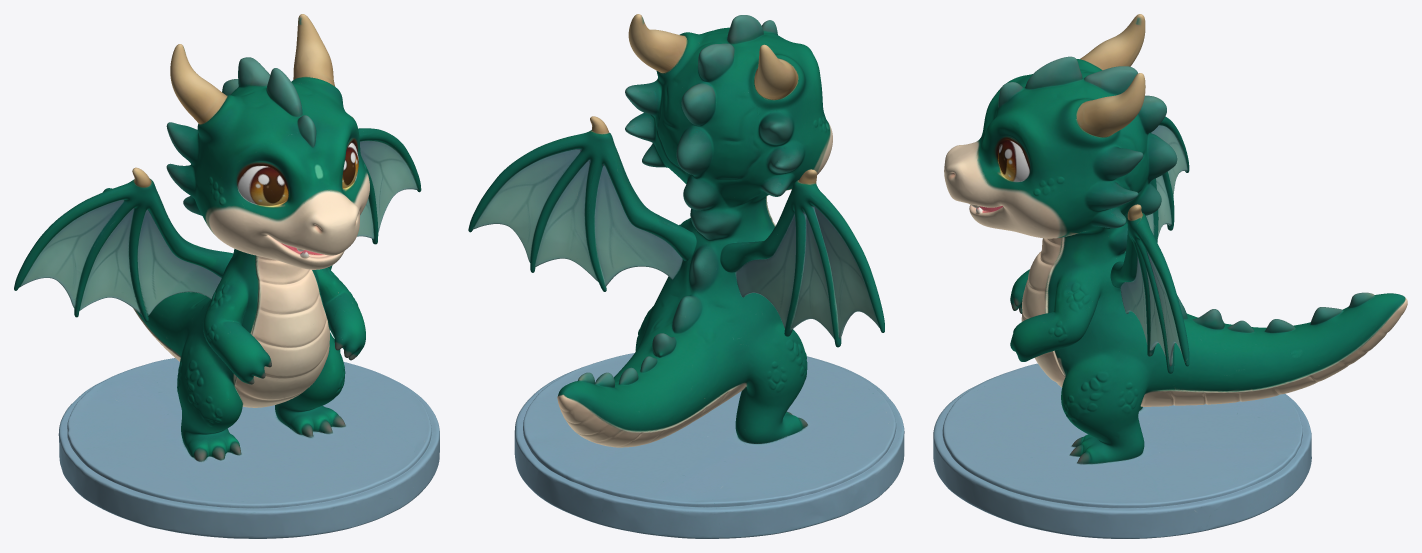
Rendered from pet.glb.
The picture shows the model from 3 angles, left to right: view 1: azimuth 30°, elevation 25°; view 2: azimuth 150°, elevation 25°; view 3: azimuth 270°, elevation 25°; orthographic projection. The views are drawn at different scales.
Size of the model in its own units: 1.85 by 1.85 by 1.9.
1 material, 1 textured.
